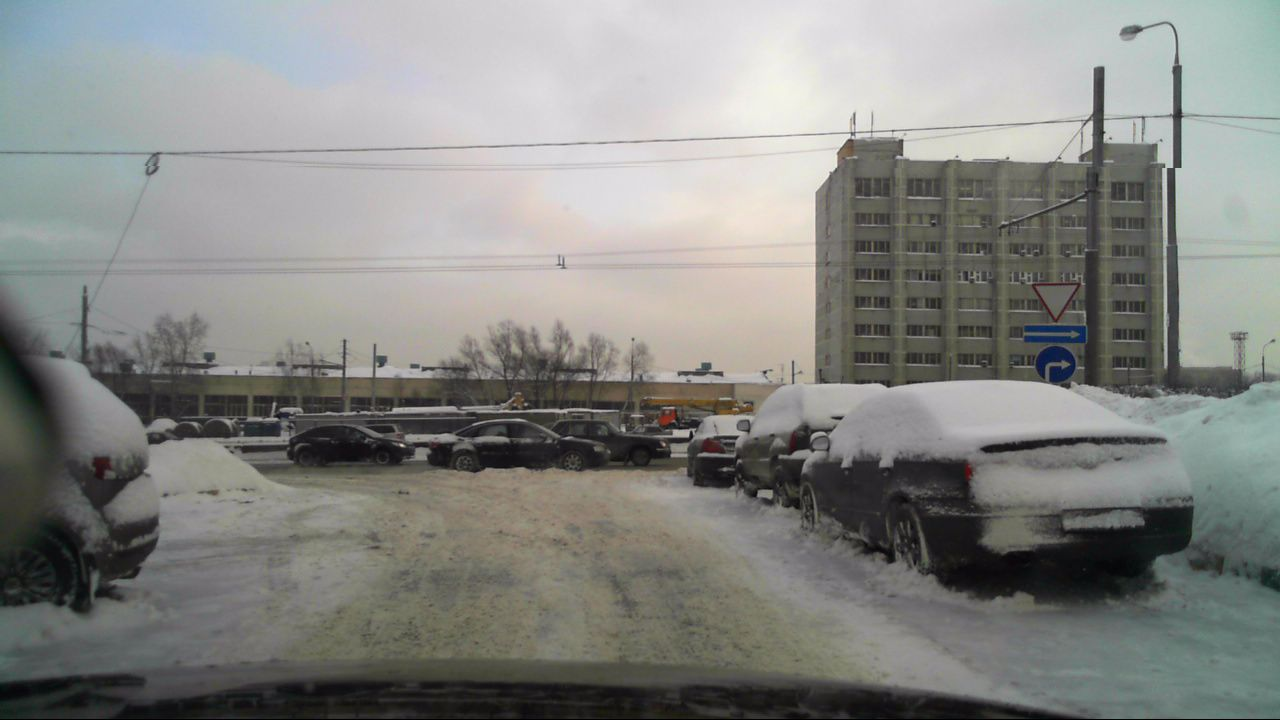One-Way Traffic: (1023, 324, 1087, 343)
